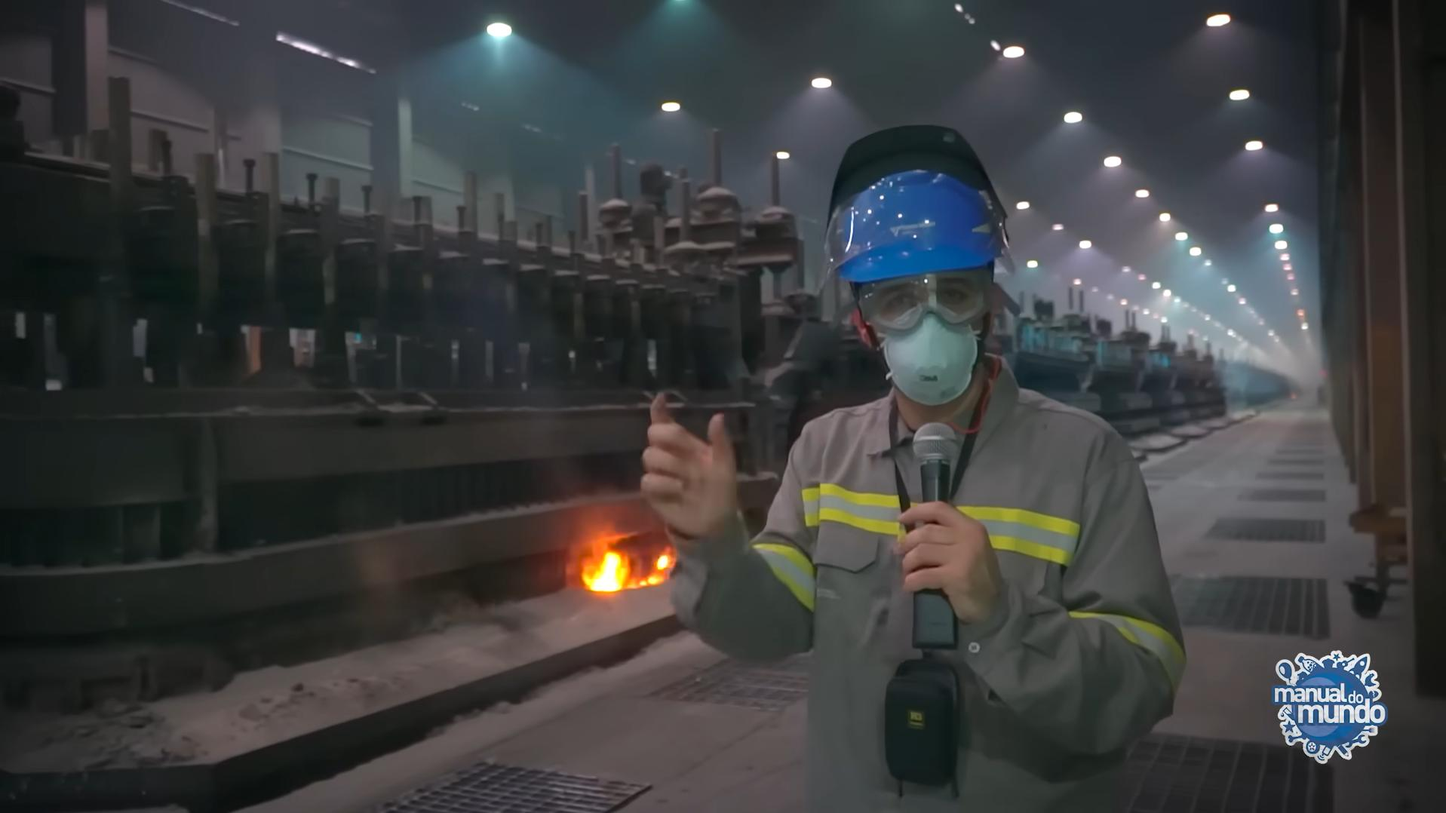helmet: (819, 144, 1014, 293)
vest: (763, 391, 1197, 812)
